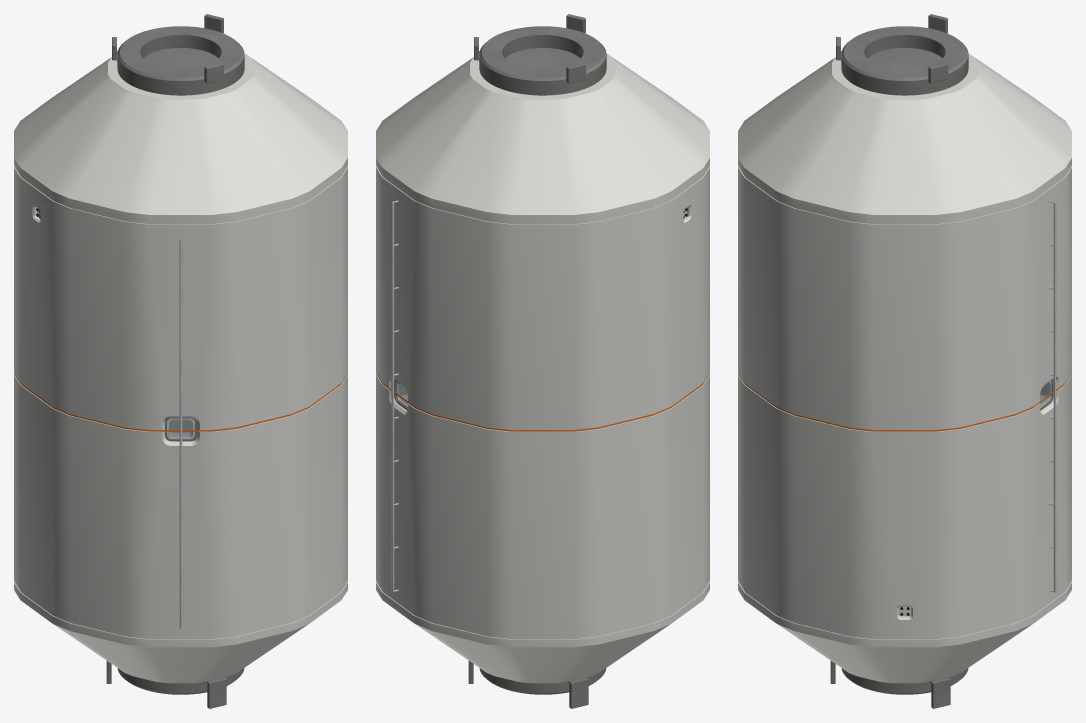
Rendered from ax_station_13_crew_quarters.glb.
The picture shows the model from 3 angles, left to right: view 1: azimuth 30°, elevation 25°; view 2: azimuth 150°, elevation 25°; view 3: azimuth 270°, elevation 25°; orthographic projection.
Parts seen in each view (by area): view 1: pressure_hull, port_top, handrails, hatch_door_2, port_bottom, port_top_petals, orange_stripes, port_bottom_petals; view 2: pressure_hull, port_top, handrails, hatch_door_2, port_bottom, port_top_petals, orange_stripes, port_bottom_petals; view 3: pressure_hull, port_top, handrails, hatch_door_2, port_bottom, port_top_petals, orange_stripes, port_bottom_petals.
Part boxes in pixels (x1,y1,x2,y2): pressure_hull: [14, 53, 347, 683]; port_top: [117, 26, 244, 95]; handrails: [179, 236, 182, 628]; hatch_door_2: [143, 48, 218, 69]; port_bottom: [117, 668, 244, 694]; port_top_petals: [112, 14, 223, 83]; orange_stripes: [14, 374, 347, 431]; port_bottom_petals: [106, 661, 226, 708]; pressure_hull: [376, 53, 709, 683]; port_top: [479, 26, 606, 95]; handrails: [391, 200, 398, 592]; hatch_door_2: [505, 48, 580, 69]; port_bottom: [479, 668, 606, 694]; port_top_petals: [474, 14, 585, 83]; orange_stripes: [376, 374, 709, 431]; port_bottom_petals: [468, 661, 588, 708]; pressure_hull: [738, 53, 1071, 683]; port_top: [841, 26, 968, 95]; handrails: [1049, 200, 1056, 592]; hatch_door_2: [867, 48, 942, 69]; port_bottom: [841, 668, 968, 694]; port_top_petals: [836, 14, 947, 83]; orange_stripes: [738, 374, 1071, 431]; port_bottom_petals: [830, 661, 950, 708].
Size of the model in its own units: 4.2 by 8.87 by 4.2.
6 materials, 2 textured.
